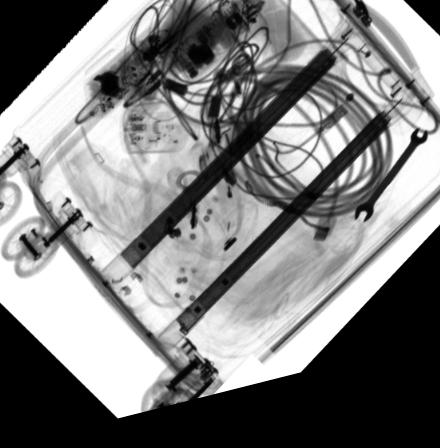Wrench: (353, 148, 428, 240)
